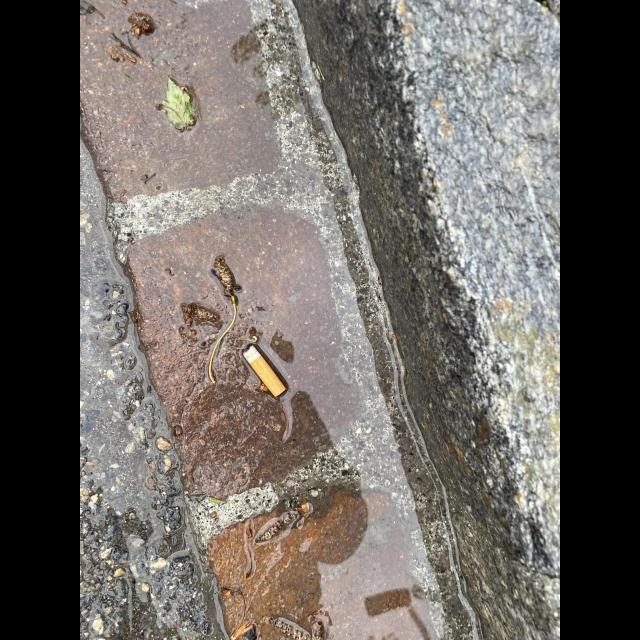cigarette: (242, 342, 286, 397)
